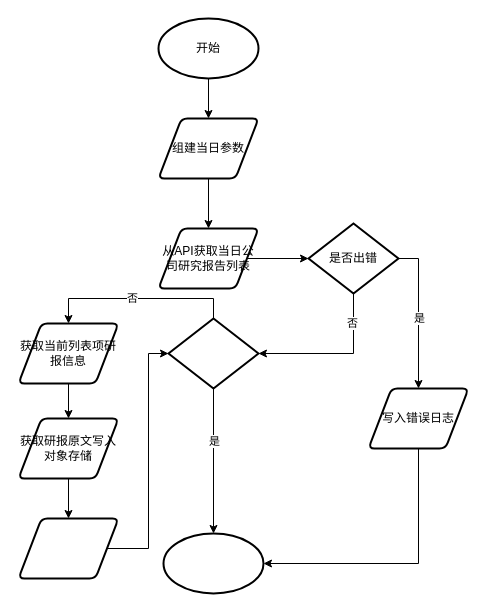
Some shapes in this 486 by 611 pixel diagram are drawn without their labels. The centre of each missing label's shape, as x and y in pixels:
"是否是最后一条" belongs at [213,353].
"结束" belongs at [213,563].
"获取研报信息写入Deltalake的Bronze层公司研报原数据表" belongs at [68,548].
